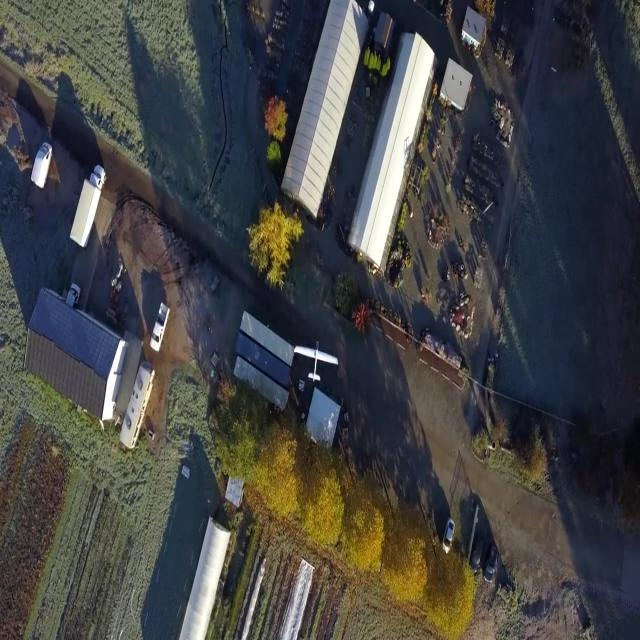iha: (294, 341, 339, 383)
